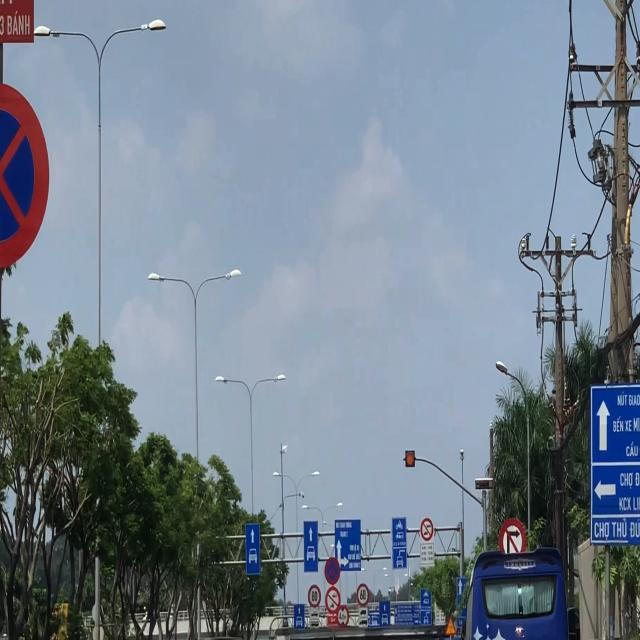Cam con lai: (420, 516, 433, 542)
Cam dung va do: (0, 75, 51, 272), (324, 557, 341, 585)
Cam re phai: (497, 517, 525, 559)
Chieu cao toi da: (336, 604, 349, 629)
Toc do toi da: (306, 581, 324, 609), (356, 583, 370, 608)
